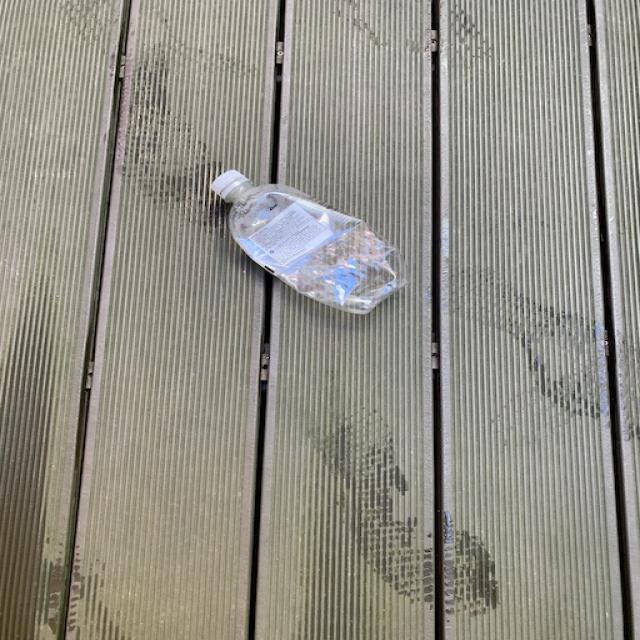Waste: (211, 171, 409, 314)
